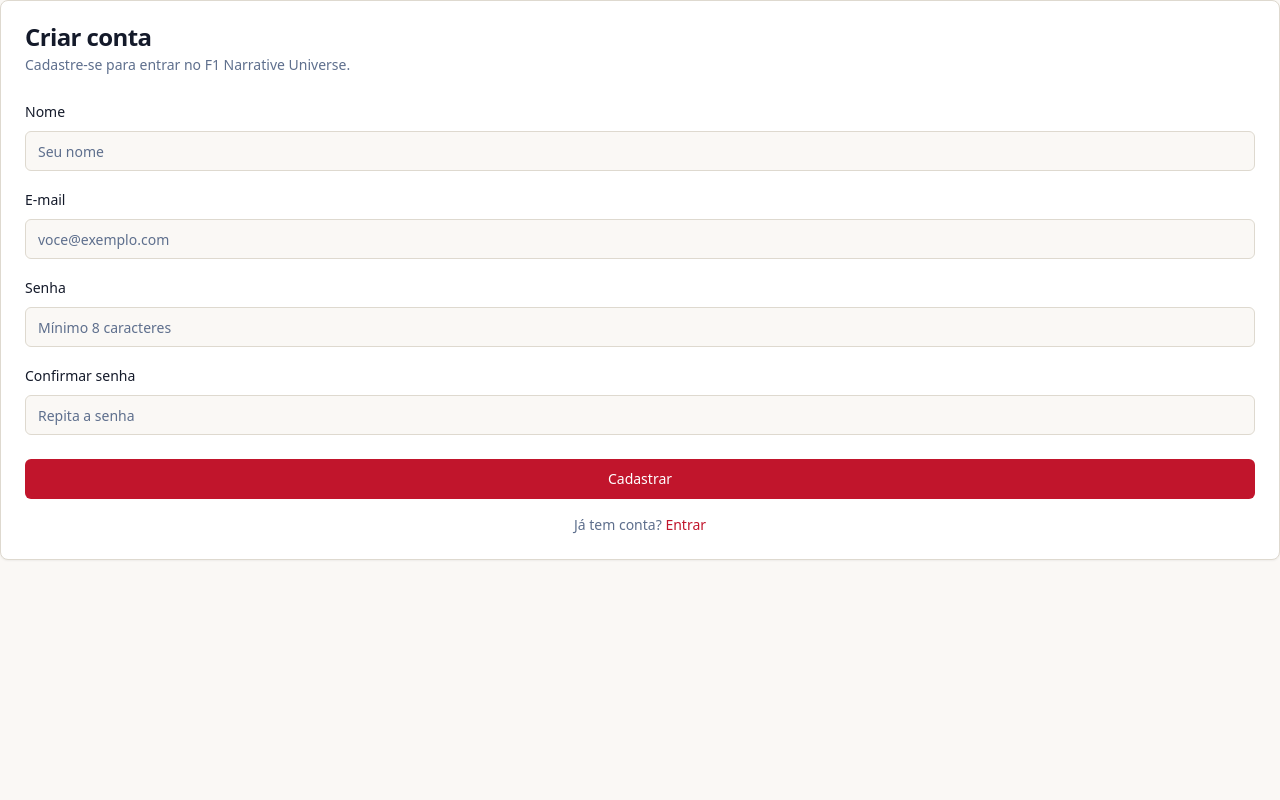
RegisterForm › 1 - nome vazio: inválido, sessão não submetida
Click the button "Cadastrar" at (640, 479), box [25,459,1255,499]
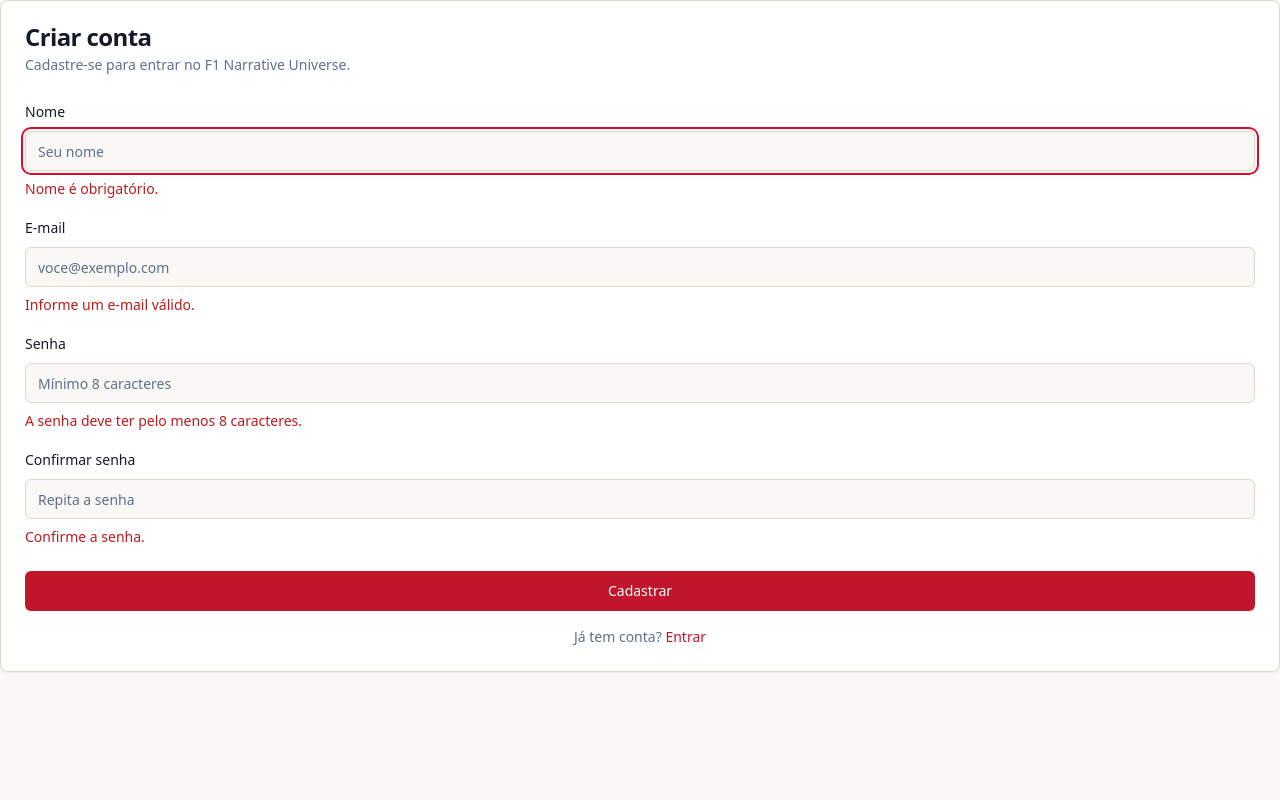
Check: the text "Nome é obrigatório." is shown, box [25,179,158,198]
